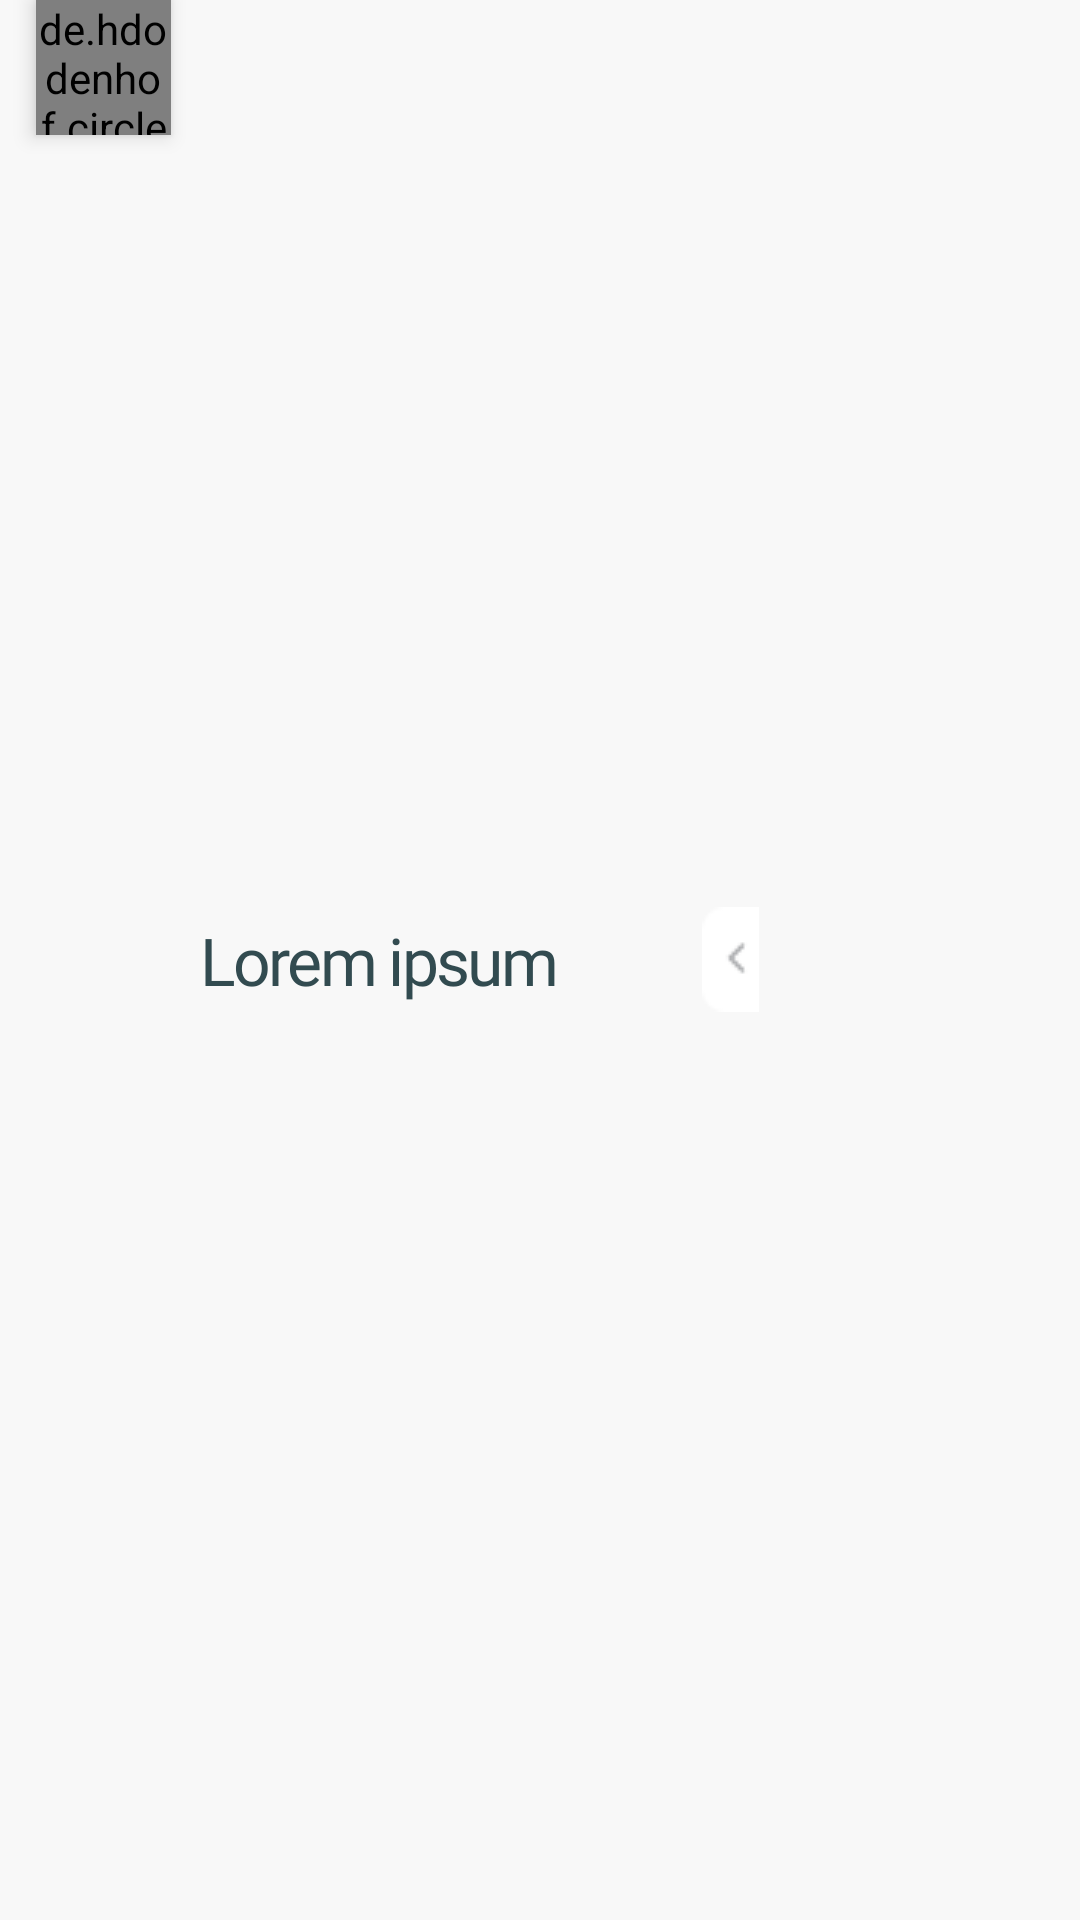

Icon bounding boxes for this 1080*1920 phone screenshot, format Rect(x1, y1, x2, y2):
minimizemenu: Rect(728, 943, 744, 973)
